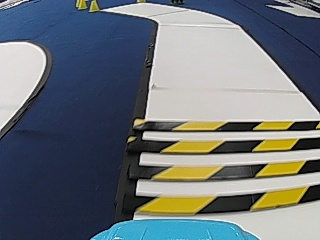bump: (144, 121, 307, 214)
